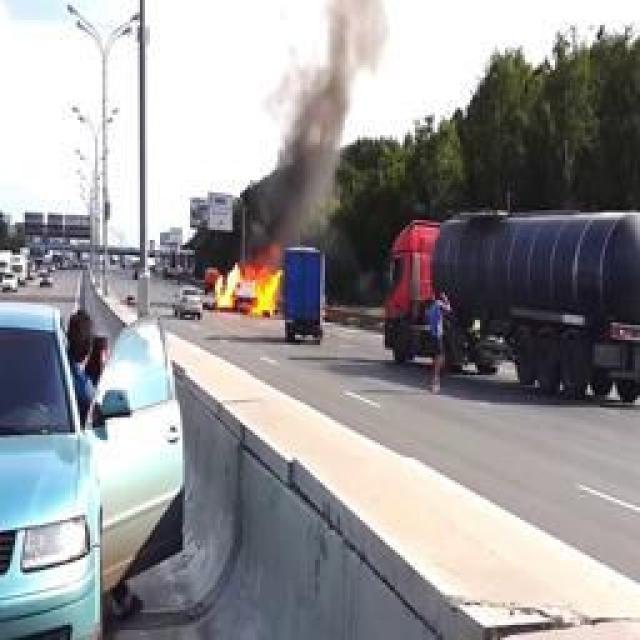Fire: (216, 244, 284, 316)
